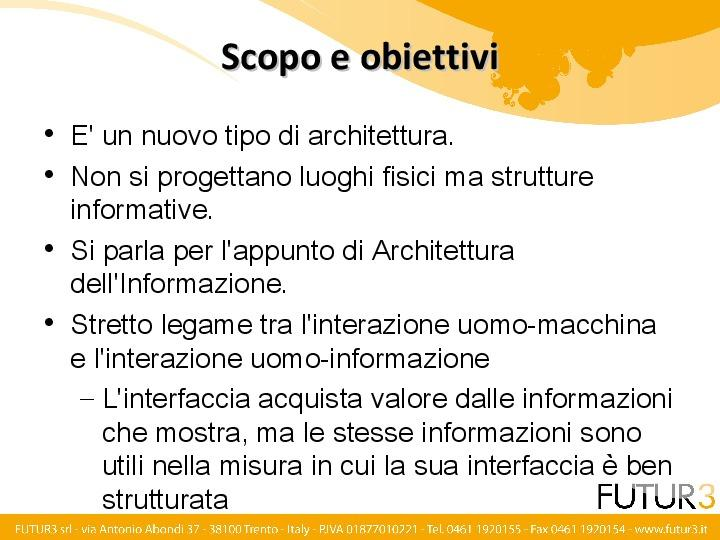paragraph: (61, 117, 708, 510)
title: (215, 29, 504, 81)
